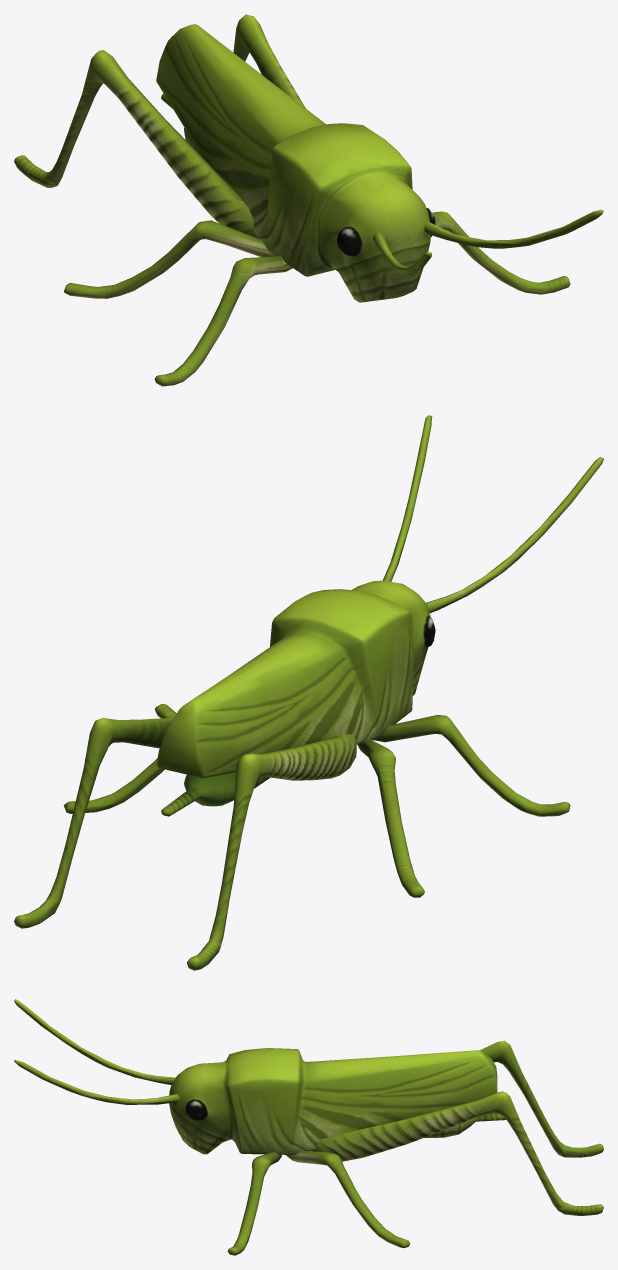
File: grillo_ambiente.fbx
3 renders of one model, top to bottom at view 1: azimuth 30°, elevation 25°; view 2: azimuth 150°, elevation 25°; view 3: azimuth 270°, elevation 25°, orthographic. The views are drawn at different scales.
Visible parts, largest first — view 1: 10024_Grassshoper_v1_L3; view 2: 10024_Grassshoper_v1_L3; view 3: 10024_Grassshoper_v1_L3.
Part boxes in pixels (x1,y1,x2,y2): 10024_Grassshoper_v1_L3: [14, 14, 603, 386]; 10024_Grassshoper_v1_L3: [14, 415, 603, 970]; 10024_Grassshoper_v1_L3: [14, 999, 603, 1255].
Bounding box in the file's own units: 347 × 177 × 599.
Materials: 1 (1 with a texture image).
